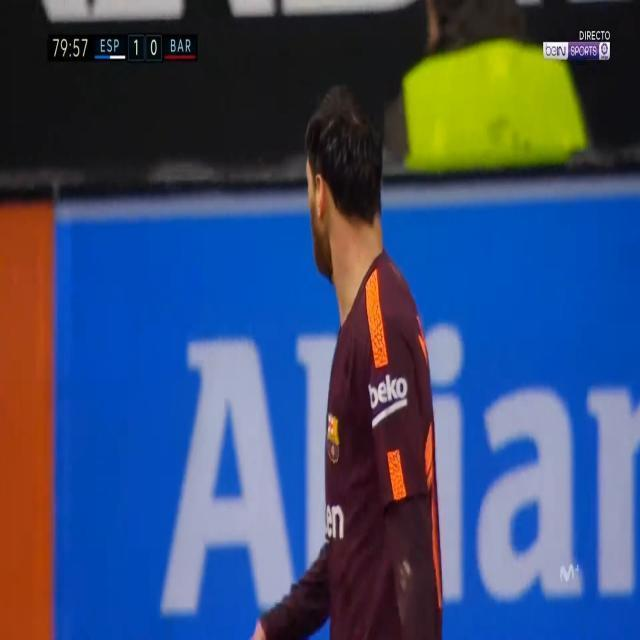Joueur: (249, 60, 487, 640)
